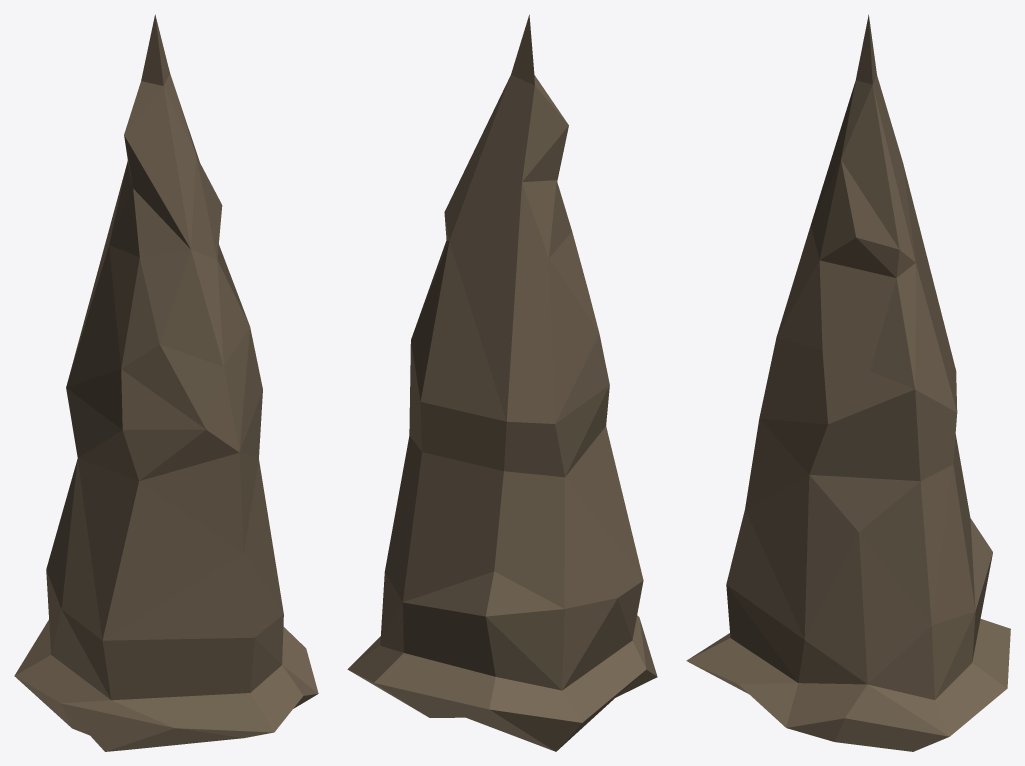
Rendered from StalagmiteOnlyTwo.fbx.
The picture shows the model from 3 angles, left to right: view 1: azimuth 30°, elevation 25°; view 2: azimuth 150°, elevation 25°; view 3: azimuth 270°, elevation 25°; orthographic projection. The views are drawn at different scales.
Parts seen in each view (by area): view 1: Stalagmite; view 2: Stalagmite; view 3: Stalagmite.
Boxes of the visible parts, <box> form: Stalagmite: <box>14,14,318,751</box>; Stalagmite: <box>347,14,657,751</box>; Stalagmite: <box>686,14,1010,751</box>.
Size of the model in its own units: 96.39 by 265 by 111.
